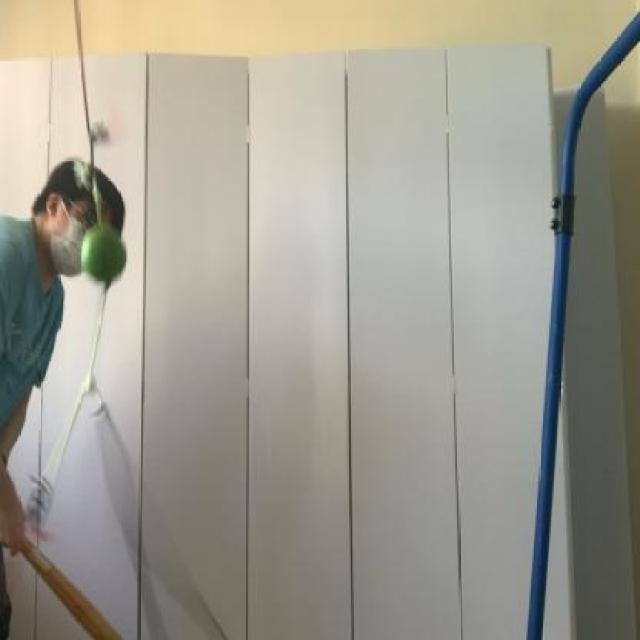baseball: (79, 221, 132, 296)
